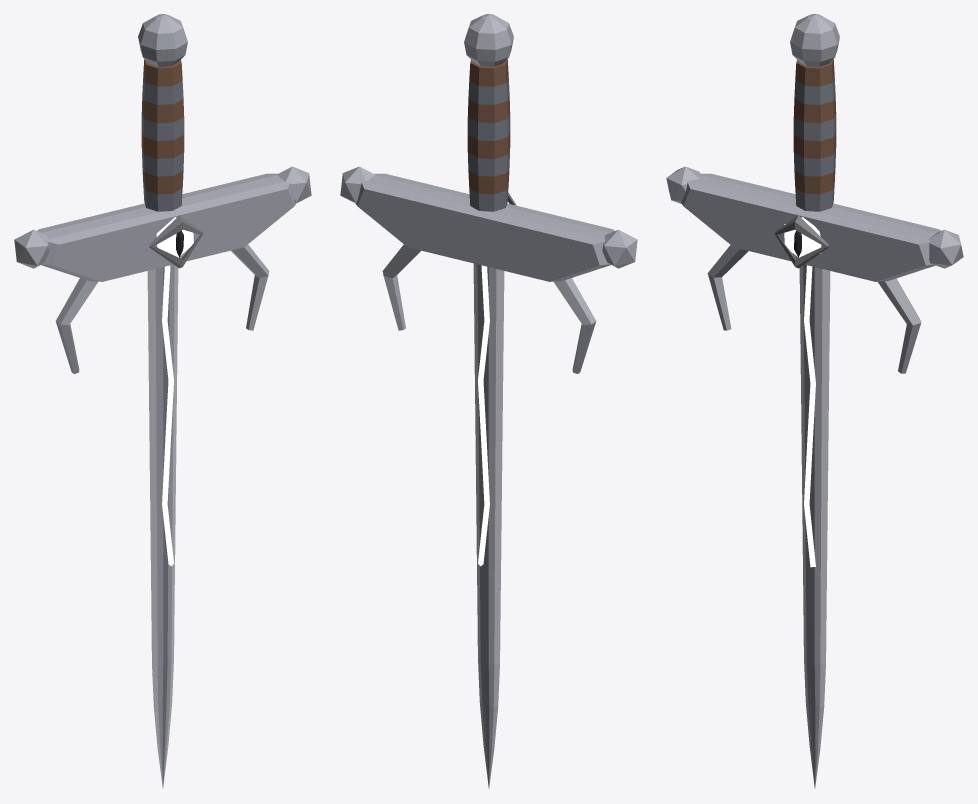
File: blade-parrying.glb
3 views of the same model, side by side, from view 1: azimuth 30°, elevation 25°; view 2: azimuth 150°, elevation 25°; view 3: azimuth 330°, elevation 25° (orthographic).
Parts seen in each view (by area): view 1: blade-parrying, pulse_vein, blink_eye; view 2: blade-parrying, pulse_vein; view 3: blade-parrying, pulse_vein, blink_eye.
Part boxes in pixels (<box>): blade-parrying: <box>14,14,311,788</box>; pulse_vein: <box>162,265,173,566</box>; blink_eye: <box>149,215,203,268</box>; blade-parrying: <box>340,14,637,788</box>; pulse_vein: <box>478,265,489,566</box>; blade-parrying: <box>666,14,963,788</box>; pulse_vein: <box>804,265,815,567</box>; blink_eye: <box>774,215,828,268</box>.
Size of the model in its own units: 0.4697 by 1.19 by 0.0922.
